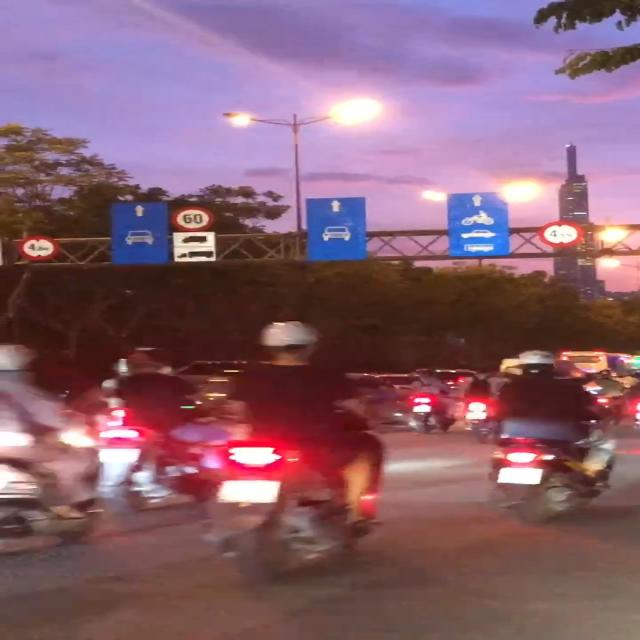Bien bao han che chieu cao: (18, 236, 63, 263)
Bien bao toc do toi da cho phep: (171, 202, 221, 232)
